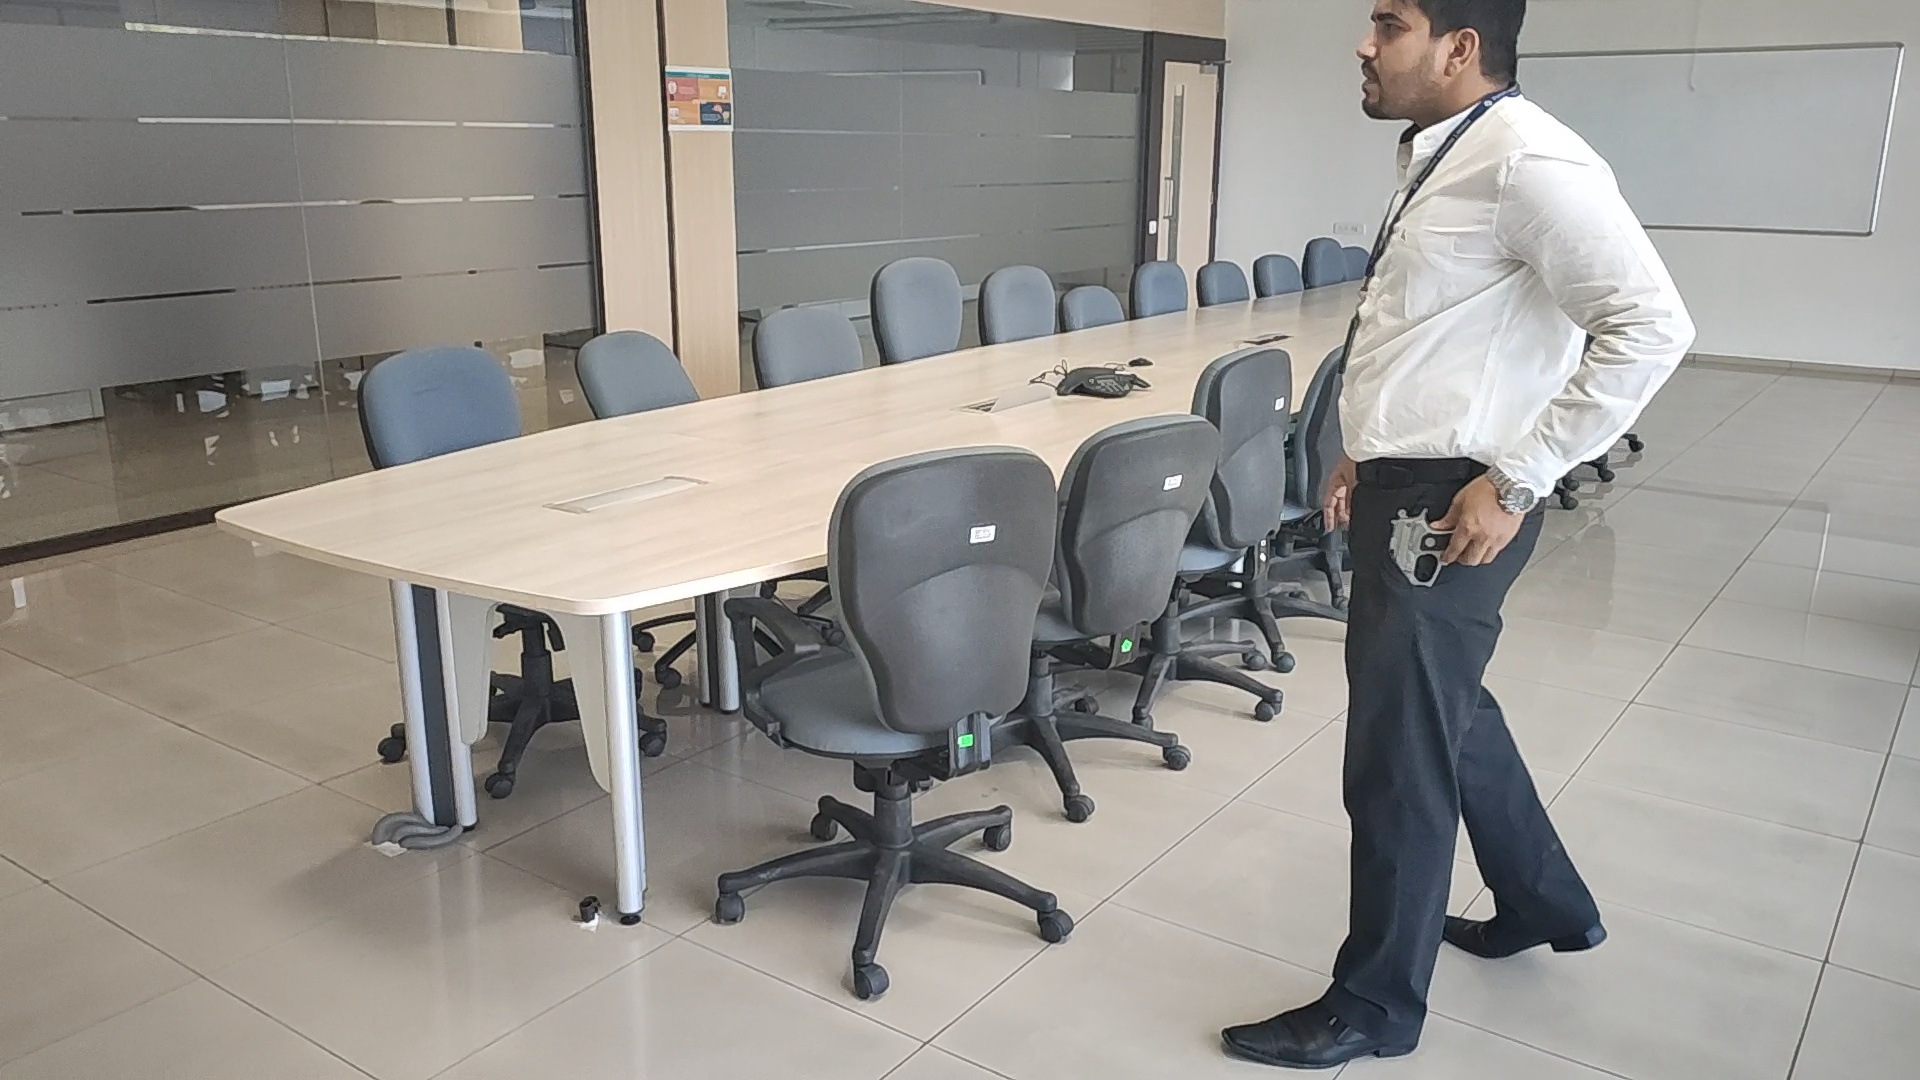gun: (1387, 505, 1457, 588)
